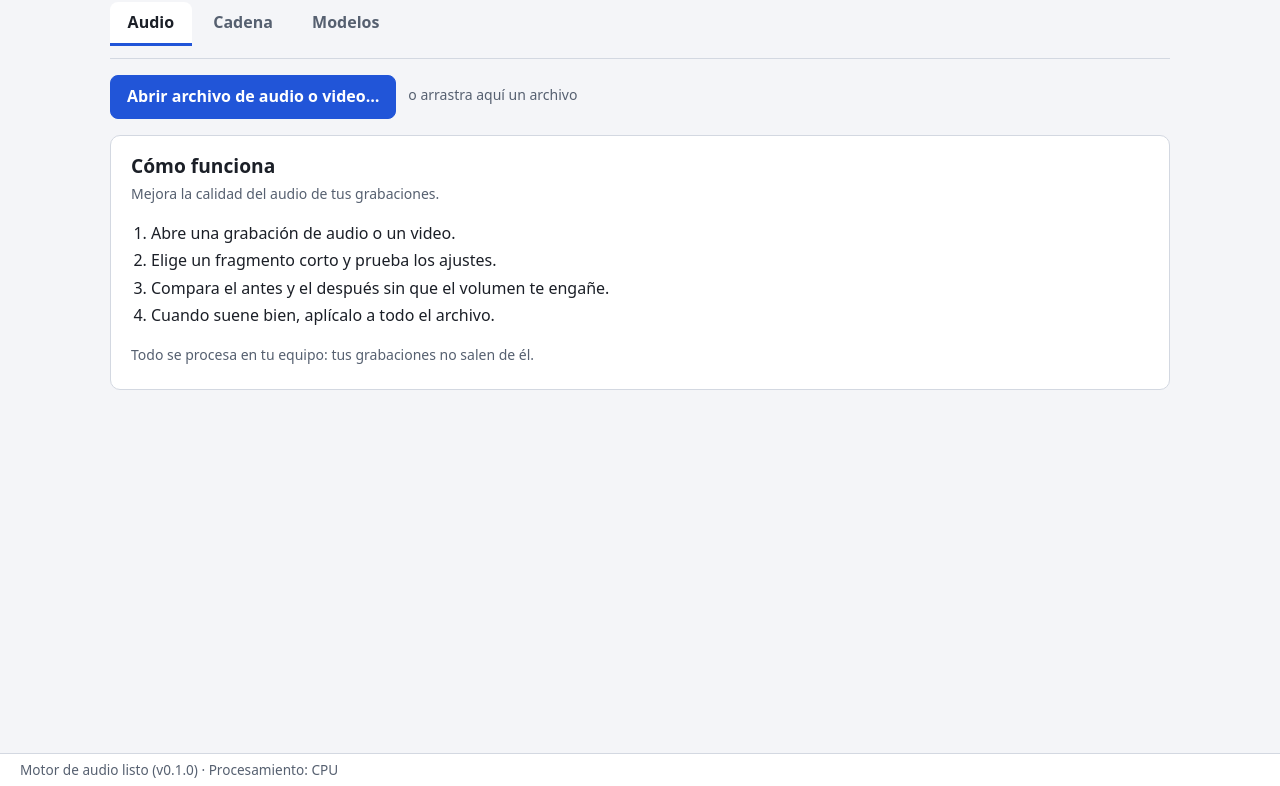
Test case: App › procesar todo, mostrar progreso y cancelar deja un aviso y vuelve a habilitar los controles
This screenshot has width=1280, height=786.
Click the button "Abrir archivo de audio o video…".
click(253, 97)  # box [110,75,396,119]
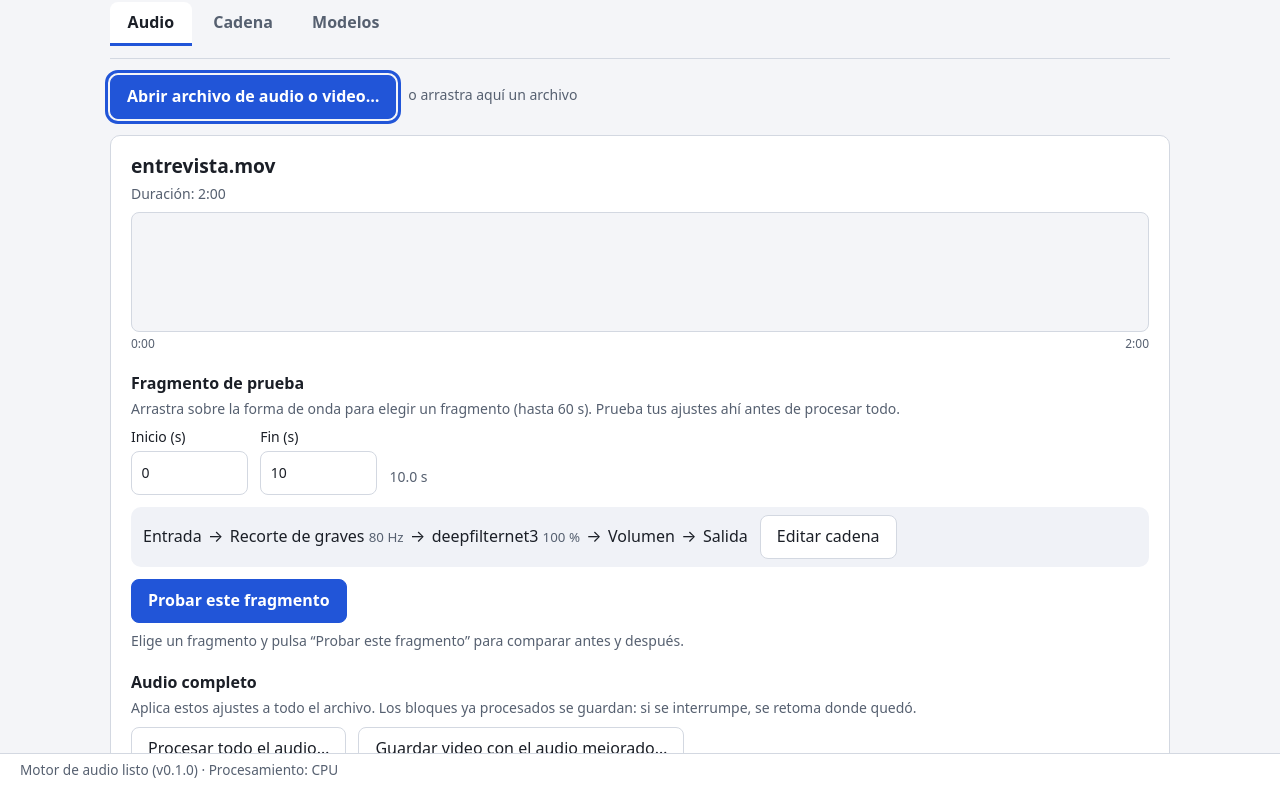
Check: the heading "entrevista.mov" is shown, box [131,152,276,179]
Click the button "Procesar todo el audio…".
click(239, 749)  # box [131,727,346,771]
(page scrolled)
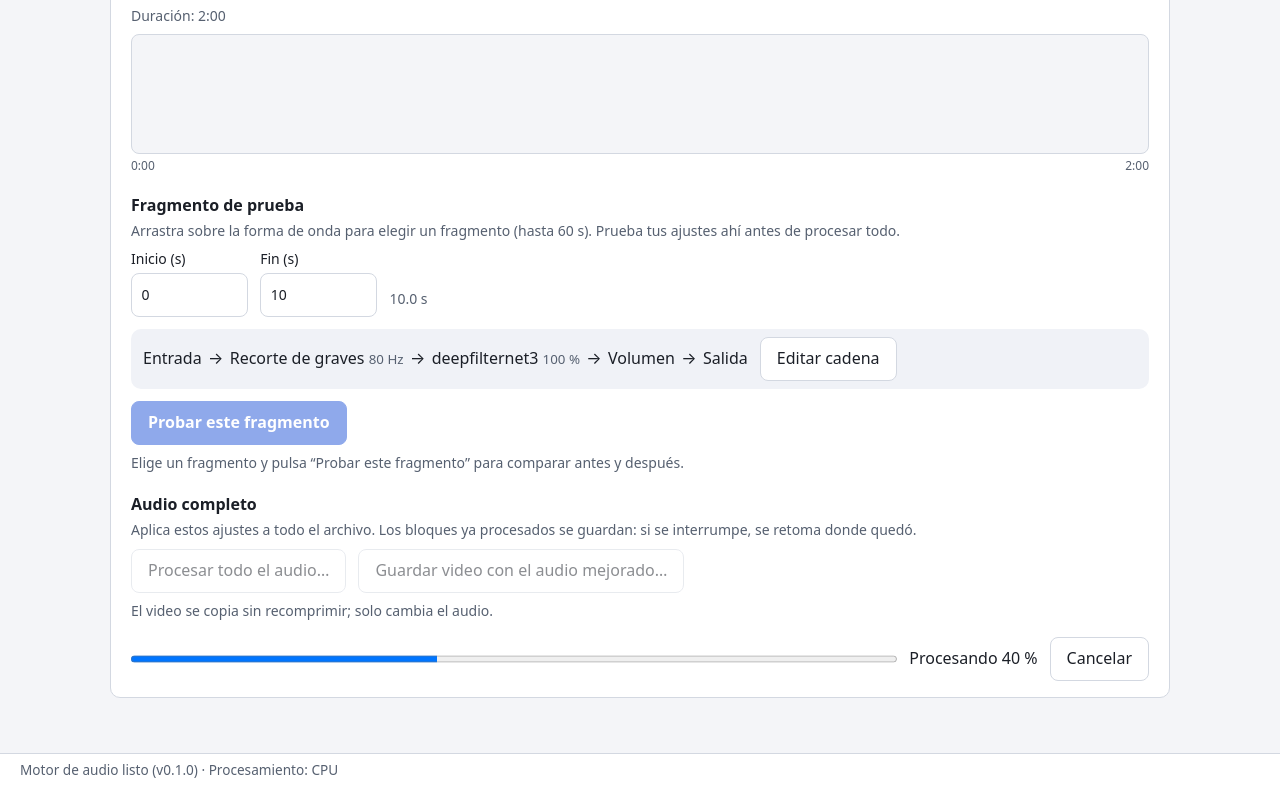
Check: the text "Procesando 40 %" is shown, box [909,647,1038,671]
Click the button "Cancelar".
click(1099, 659)  # box [1050,637,1149,681]
(page scrolled)
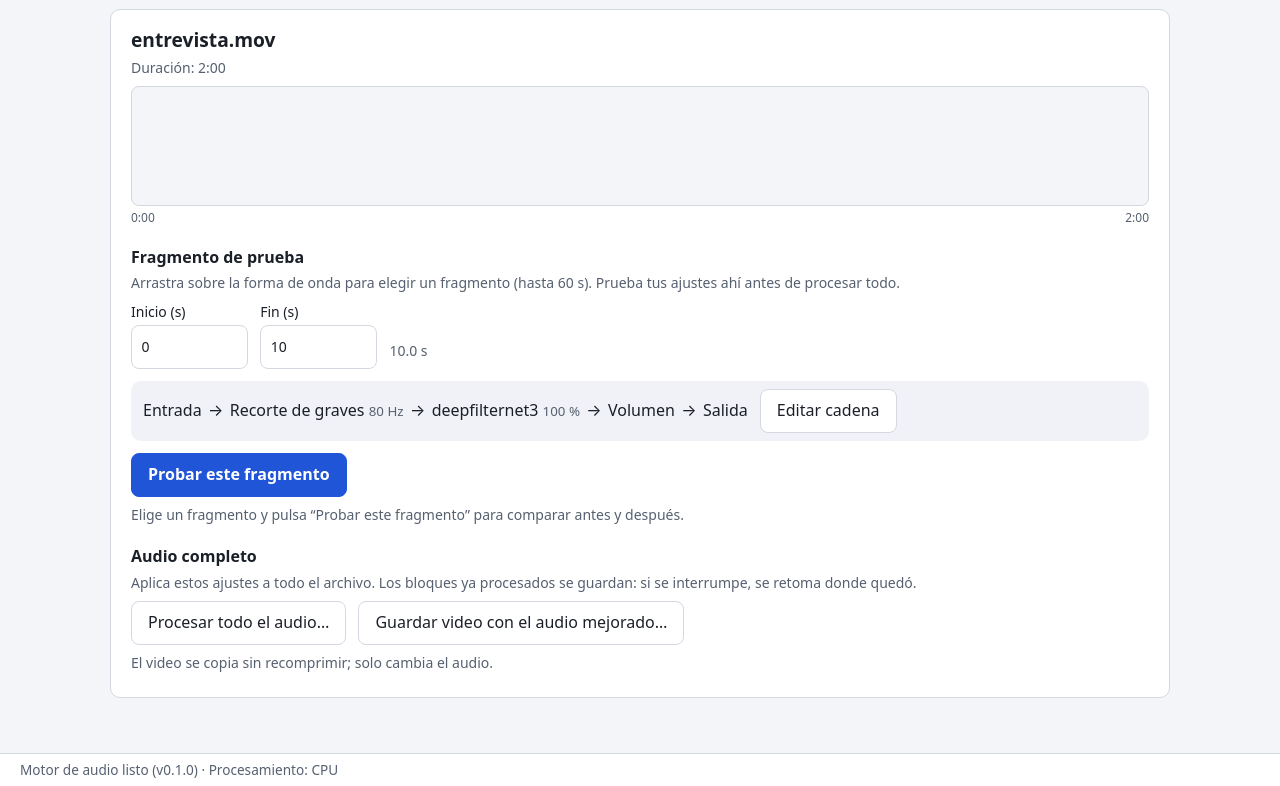
Check: the button "Procesar todo el audio…" is enabled, box [131,601,346,645]
